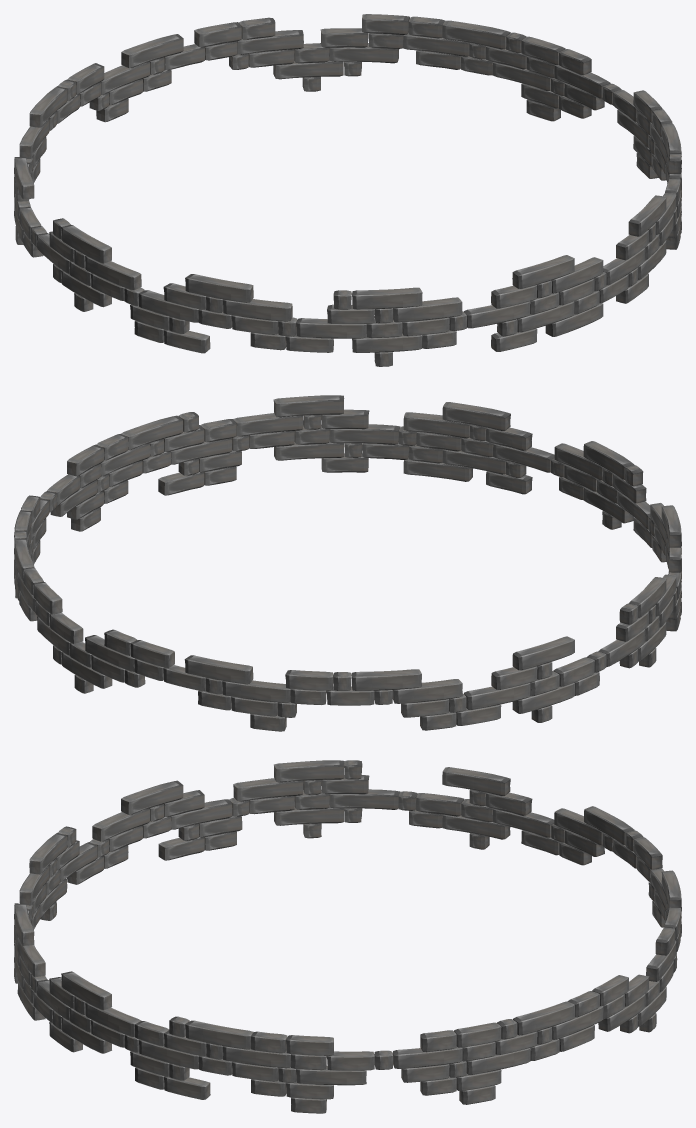
The model's file is Bottom_Tower_Wall.fbx.
3 renders of one model, top to bottom at view 1: azimuth 30°, elevation 25°; view 2: azimuth 150°, elevation 25°; view 3: azimuth 270°, elevation 25°, orthographic.
Visible parts, largest first — view 1: Mid_Tower_Wall_End; view 2: Mid_Tower_Wall_End; view 3: Mid_Tower_Wall_End.
Part boxes in pixels (<box>): Mid_Tower_Wall_End: <box>14,14,681,366</box>; Mid_Tower_Wall_End: <box>14,395,681,731</box>; Mid_Tower_Wall_End: <box>14,760,681,1113</box>.
Bounding box in the file's own units: 4338 × 523 × 4338.
